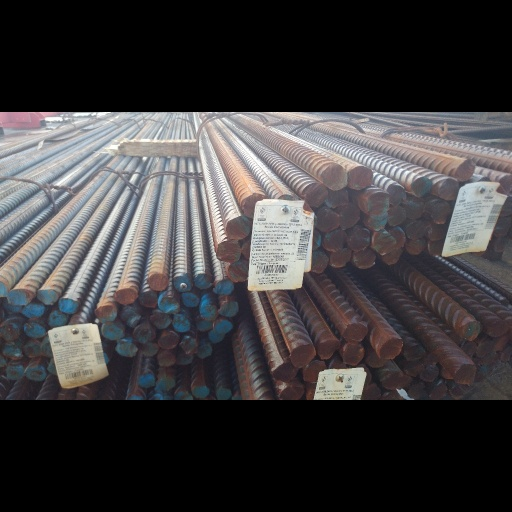dipstick: (291, 343, 315, 367), (315, 208, 340, 231), (323, 165, 346, 190), (348, 166, 373, 189), (226, 216, 249, 239), (244, 194, 267, 217), (216, 240, 240, 262), (340, 204, 360, 230), (431, 201, 453, 223), (380, 338, 403, 359), (303, 361, 327, 381), (228, 261, 250, 282), (348, 229, 370, 250), (374, 232, 395, 254), (304, 185, 327, 205), (344, 323, 367, 343), (323, 230, 344, 251), (368, 192, 388, 214), (7, 289, 34, 305), (411, 177, 432, 197), (439, 179, 459, 200), (455, 159, 475, 180), (492, 216, 512, 237), (343, 343, 363, 364), (149, 310, 171, 329), (353, 250, 375, 269), (101, 322, 124, 340), (406, 221, 429, 239), (272, 364, 296, 381), (158, 331, 179, 350), (406, 198, 425, 219), (329, 249, 351, 267), (114, 287, 137, 304), (120, 306, 139, 326), (456, 364, 475, 384), (158, 295, 179, 313), (36, 289, 58, 306), (311, 251, 328, 273), (368, 212, 387, 231), (280, 385, 304, 400), (388, 205, 406, 225), (388, 185, 406, 205), (461, 321, 479, 341), (489, 319, 509, 337), (95, 305, 116, 322), (133, 326, 154, 343), (318, 340, 339, 357), (326, 190, 347, 207), (405, 344, 426, 361), (382, 372, 403, 389), (450, 384, 473, 399), (3, 342, 22, 360), (428, 223, 447, 241), (147, 274, 168, 290), (405, 239, 426, 255), (0, 324, 19, 341), (47, 311, 67, 327), (23, 323, 44, 338), (23, 304, 45, 318), (173, 314, 190, 332), (219, 301, 238, 317), (57, 298, 77, 313), (25, 365, 45, 380), (117, 341, 137, 356), (382, 250, 403, 264), (24, 340, 41, 357), (158, 351, 176, 367), (181, 336, 197, 354), (194, 273, 212, 289), (421, 365, 439, 381), (363, 384, 381, 400), (173, 276, 192, 291), (199, 305, 218, 320), (405, 363, 424, 378), (6, 364, 23, 380), (477, 340, 493, 357), (430, 383, 447, 399), (181, 292, 199, 307), (408, 383, 426, 398), (368, 352, 386, 367), (156, 377, 175, 391), (214, 280, 233, 294), (499, 196, 512, 216), (140, 292, 157, 307), (493, 335, 508, 351), (499, 174, 512, 192), (502, 241, 512, 264), (428, 241, 443, 256), (138, 374, 155, 387), (215, 320, 232, 333), (394, 229, 405, 249), (140, 343, 158, 355), (494, 237, 508, 252), (381, 390, 402, 400), (40, 338, 51, 357), (192, 385, 209, 397), (198, 344, 211, 359), (480, 362, 495, 375), (501, 345, 512, 362), (216, 388, 231, 400), (176, 354, 192, 365), (47, 359, 57, 375), (197, 320, 213, 330), (209, 332, 224, 342)
